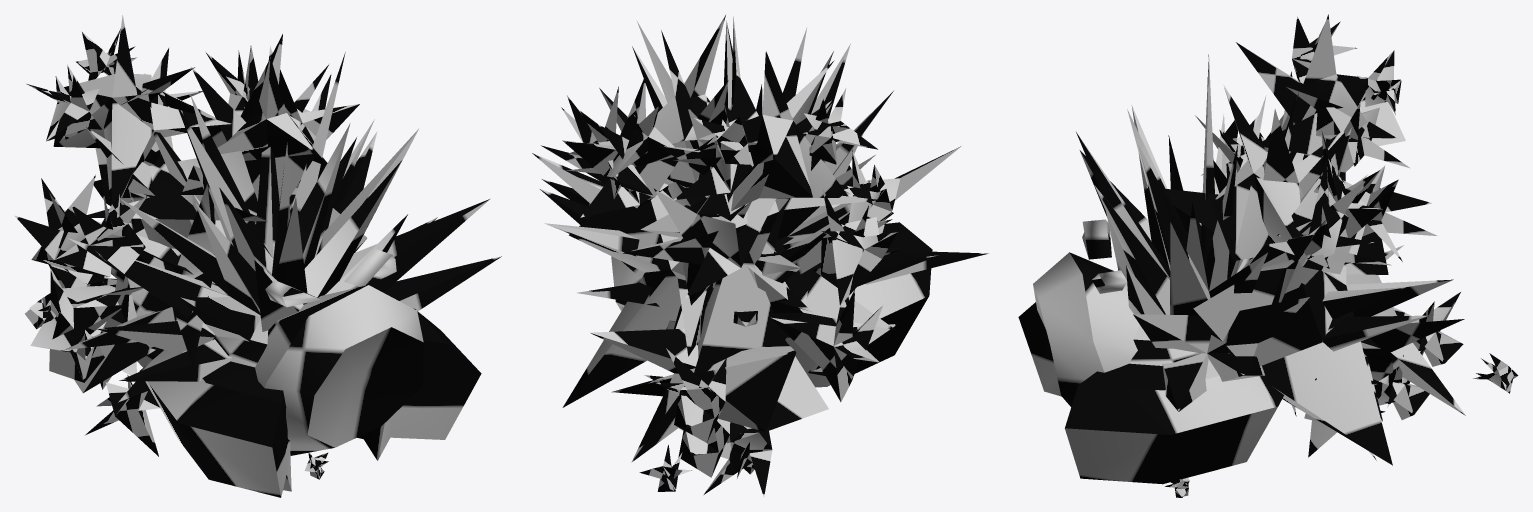
The model's file is ice_meteoroid_mega_boss.obj.
The picture shows the model from 3 angles, left to right: view 1: azimuth 30°, elevation 25°; view 2: azimuth 150°, elevation 25°; view 3: azimuth 270°, elevation 25°; orthographic projection. The views are drawn at different scales.
Parts seen in each view (by area): view 1: meteoroid-mega-boss004; view 2: meteoroid-mega-boss004; view 3: meteoroid-mega-boss004.
Boxes of the visible parts, x1,y1,x2,y2 form: meteoroid-mega-boss004: (15, 15, 501, 497); meteoroid-mega-boss004: (532, 15, 988, 496); meteoroid-mega-boss004: (1018, 14, 1518, 497).
Bounding box in the file's own units: 207 × 206 × 216.
Materials: 1 (1 with a texture image).
